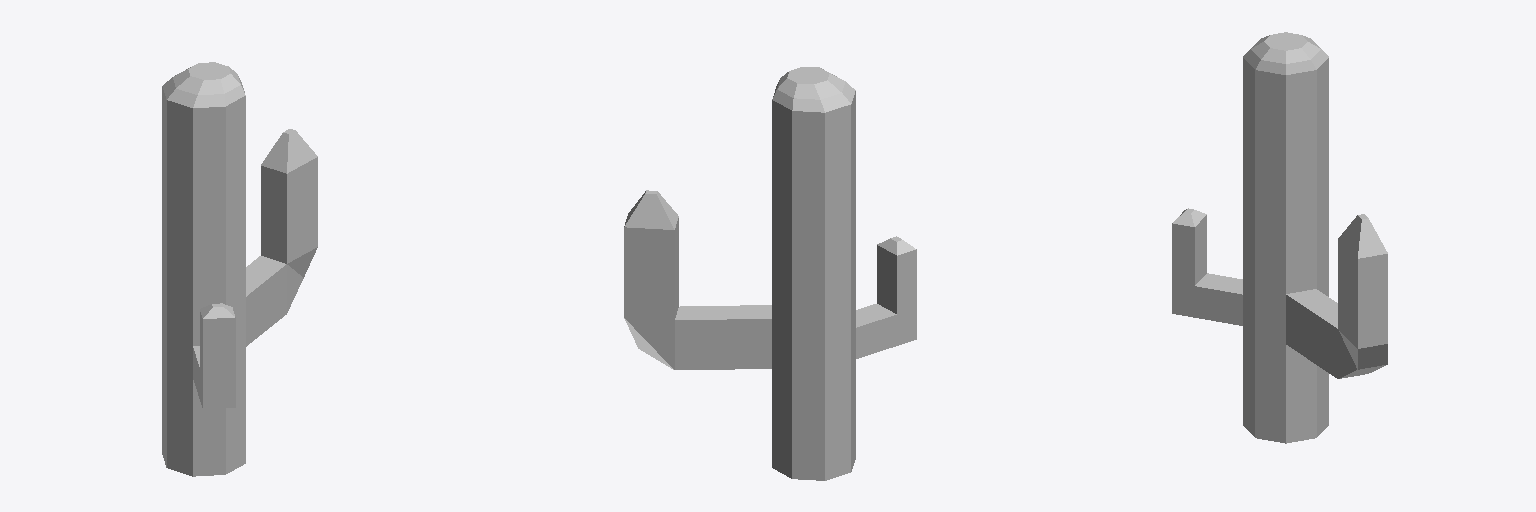
File: Cactus.obj
3 renders of one model, left to right at view 1: azimuth 30°, elevation 25°; view 2: azimuth 150°, elevation 25°; view 3: azimuth 270°, elevation 25°, orthographic.
Visible parts, largest first — view 1: Cylinder; view 2: Cylinder; view 3: Cylinder.
Part boxes in pixels (x1,y1,x2,y2): Cylinder: (162,62,317,476); Cylinder: (624,67,916,480); Cylinder: (1172,32,1387,443).
Bounding box in the file's own units: 4.02 × 7.36 × 3.74.